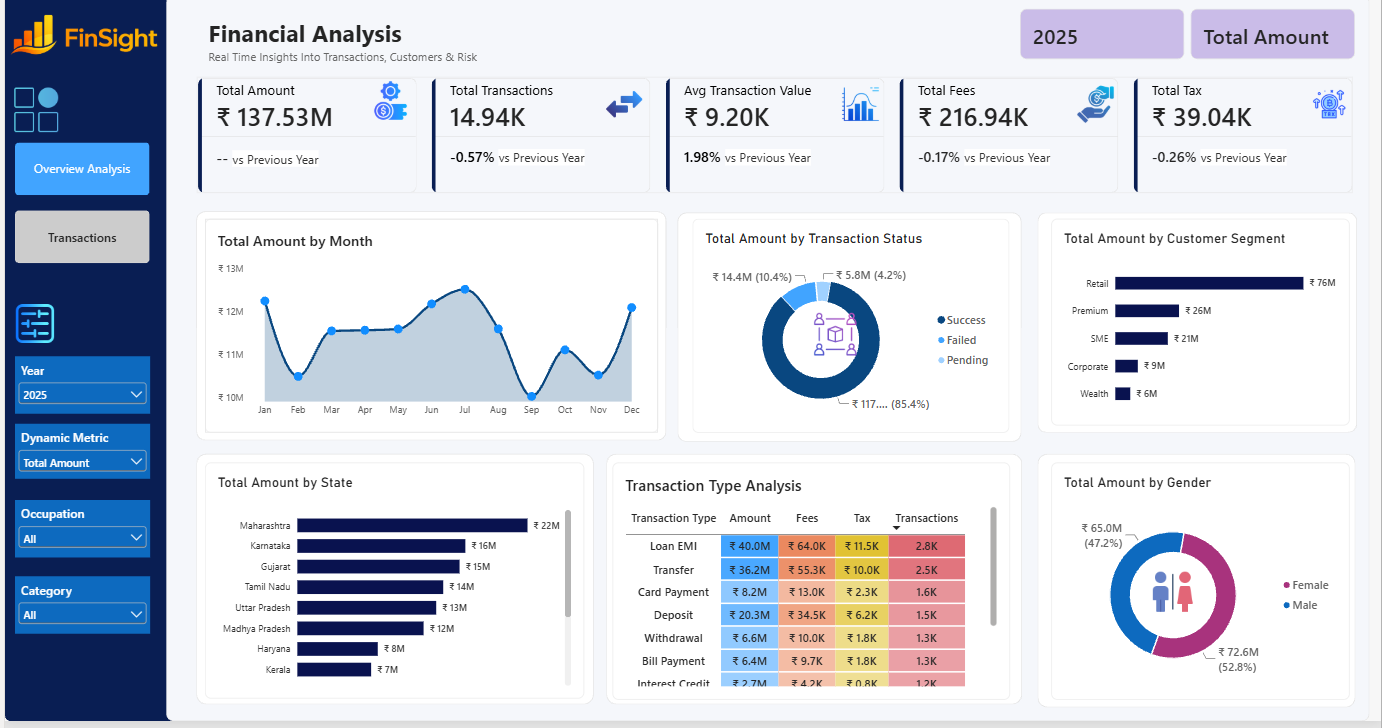

The dashboard page shown, as its layout file describes it:
{"tool":"powerbi","page":{"name":"Overview Analysis","canvas":[1800,950],"ordinal":0},"visuals":[{"type":"shape","box":[0,0,250,950],"z":0},{"type":"shape","box":[211.4,0,1574,950],"z":1000},{"type":"image","box":[0,0,211.7,105],"z":2000},{"type":"cardVisual","fields":{"Data":["finance_transactions.Dashboard Title"]},"box":[250,17.1,395.7,88.6],"z":3000},{"type":"cardVisual","fields":{"Data":["finance_transactions.Total Amount","finance_transactions.Total Transactions","finance_transactions.Avg Transaction Value","finance_transactions.Total Fees","finance_transactions.Total Tax"]},"box":[250,106,1516,154],"z":4000},{"type":"slicer","fields":{"Values":["Calendar Table.Year"]},"box":[13.3,473.3,176.7,75],"z":5000},{"type":"image","box":[478.9,113.3,50,50],"z":6000},{"type":"image","box":[785.6,113.3,50,60],"z":7000},{"type":"image","box":[1401.1,113.3,50,60],"z":8000},{"type":"image","box":[1094.4,113.3,50,60],"z":9000},{"type":"image","box":[1707.8,113.3,50,60],"z":10000},{"type":"slicer","fields":{"Values":["Dynamic Metric.Dynamic Metric"]},"box":[13.3,561.7,176.7,71.7],"z":11000},{"type":"shape","box":[250,282.9,615,300],"z":12000},{"type":"areaChart","fields":{"Category":["Calendar Table.Month"],"Y":["finance_transactions.Total Amount"]},"box":[261.4,292.9,592.9,280],"z":13000},{"type":"cardVisual","fields":{"Data":["finance_transactions.Selected Year","finance_transactions.Selected Dynamic Measure"]},"box":[1328,18,438,66],"z":14000},{"type":"shape","box":[880,284,450,300],"z":15000},{"type":"donutChart","fields":{"Category":["finance_transactions.transaction_status"],"Y":["finance_transactions.Total Amount"]},"box":[900,292.9,414.3,280],"z":16000},{"type":"shape","box":[1350,284,418,288],"z":17000},{"type":"barChart","fields":{"Category":["customers.customer_segment"],"Y":["finance_transactions.Total Amount"]},"box":[1368,292,390,270],"z":18000},{"type":"shape","box":[250,600,520,328],"z":19000},{"type":"barChart","fields":{"Category":["customers.state"],"Y":["finance_transactions.Total Amount"]},"box":[261,611,496,309],"z":20000},{"type":"shape","box":[786,600,544,328],"z":21000},{"type":"tableEx","title":"Transaction Type Analysis","fields":{"Values":["finance_transactions.transaction_type","finance_transactions.Total Amount","finance_transactions.Total Fees","finance_transactions.Total Tax","finance_transactions.Total Transactions"]},"box":[794,612,520,310],"z":22000},{"type":"shape","box":[1350,600,416,332],"z":23000},{"type":"donutChart","fields":{"Category":["customers.gender"],"Y":["finance_transactions.Total Amount"]},"box":[1368,612,390,310],"z":24000},{"type":"image","box":[1048,414,76,60],"z":25000},{"type":"image","box":[1490,750,76,60],"z":26000},{"type":"slicer","fields":{"Values":["customers.occupation"]},"box":[13.3,660,176.7,75],"z":27000},{"type":"slicer","fields":{"Values":["finance_transactions.merchant_category"]},"box":[13.3,760,176.7,75],"z":28000},{"type":"pageNavigator","box":[13.3,193.3,176.7,158.3],"z":29000},{"type":"image","box":[1.7,121.7,78.3,58.3],"z":30000},{"type":"image","box":[0,400,78.3,58.3],"z":31000}]}

Visuals, with their boxes on the page's 1800x950 design canvas (x1, y1, x2, y2). These are canvas units, not pixel positions in the 1392x728 screenshot, which may show the page scaled, cropped or inside an application window:
shape: (0,0,250,950)
shape: (211,0,1785,950)
image: (0,0,212,105)
cardVisual - finance_transactions.Dashboard Title: (250,17,646,106)
cardVisual - finance_transactions.Total Amount x finance_transactions.Total Transactions: (250,106,1766,260)
slicer - Calendar Table.Year: (13,473,190,548)
image: (479,113,529,163)
image: (786,113,836,173)
image: (1401,113,1451,173)
image: (1094,113,1144,173)
image: (1708,113,1758,173)
slicer - Dynamic Metric.Dynamic Metric: (13,562,190,633)
shape: (250,283,865,583)
areaChart - Calendar Table.Month x finance_transactions.Total Amount: (261,293,854,573)
cardVisual - finance_transactions.Selected Year x finance_transactions.Selected Dynamic Measure: (1328,18,1766,84)
shape: (880,284,1330,584)
donutChart - finance_transactions.transaction_status x finance_transactions.Total Amount: (900,293,1314,573)
shape: (1350,284,1768,572)
barChart - customers.customer_segment x finance_transactions.Total Amount: (1368,292,1758,562)
shape: (250,600,770,928)
barChart - customers.state x finance_transactions.Total Amount: (261,611,757,920)
shape: (786,600,1330,928)
"Transaction Type Analysis" tableEx: (794,612,1314,922)
shape: (1350,600,1766,932)
donutChart - customers.gender x finance_transactions.Total Amount: (1368,612,1758,922)
image: (1048,414,1124,474)
image: (1490,750,1566,810)
slicer - customers.occupation: (13,660,190,735)
slicer - finance_transactions.merchant_category: (13,760,190,835)
pageNavigator: (13,193,190,352)
image: (2,122,80,180)
image: (0,400,78,458)
